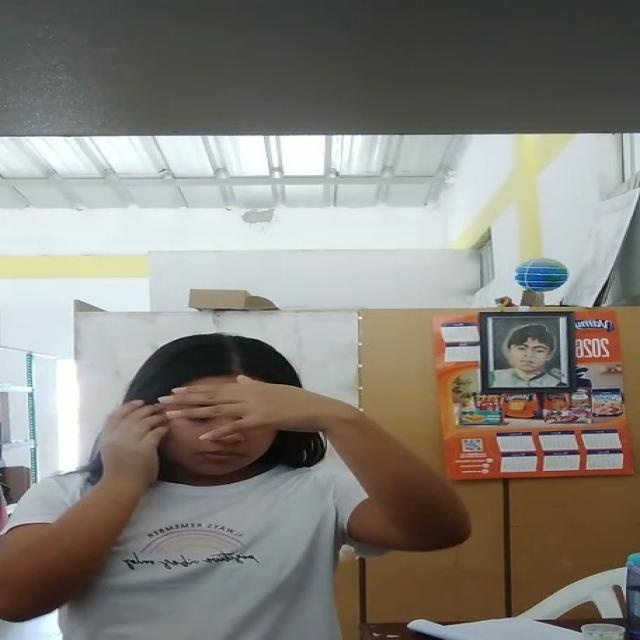7_mano_rostro: (156, 371, 338, 440)
